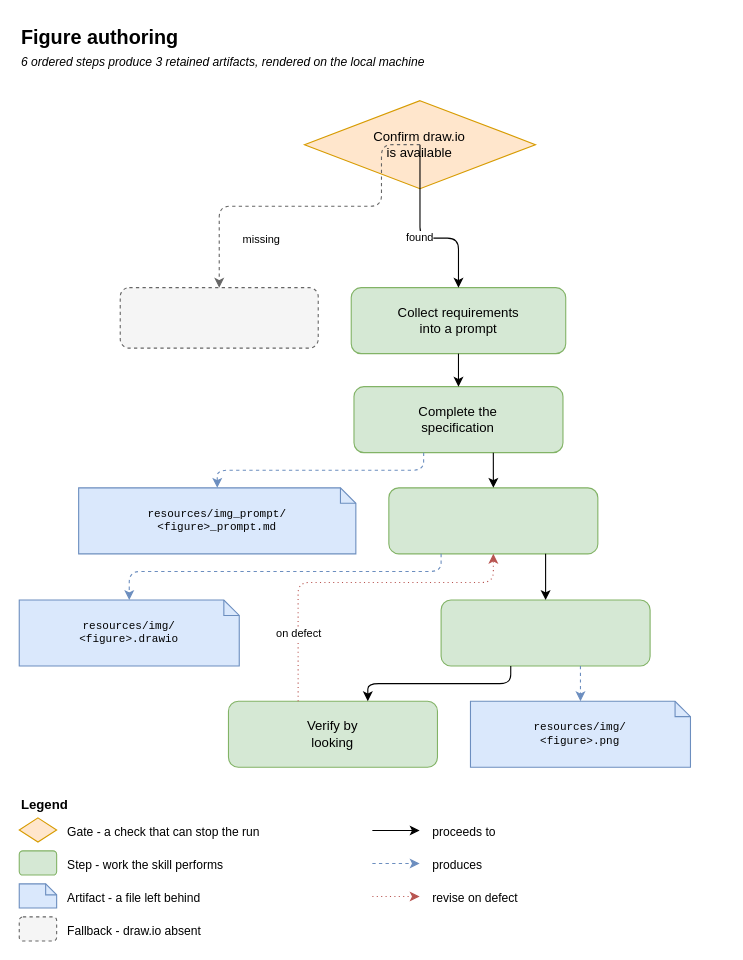
This 743x960 diagram has some shape labels left out. The box of each missing label's shape, as (x1, y1, x2, y2) in pixels:
Deliver the source unrendered: (119, 287, 318, 348)
Generate the diagram source: (388, 487, 598, 554)
Validate, lay out, export, display: (440, 599, 650, 666)
